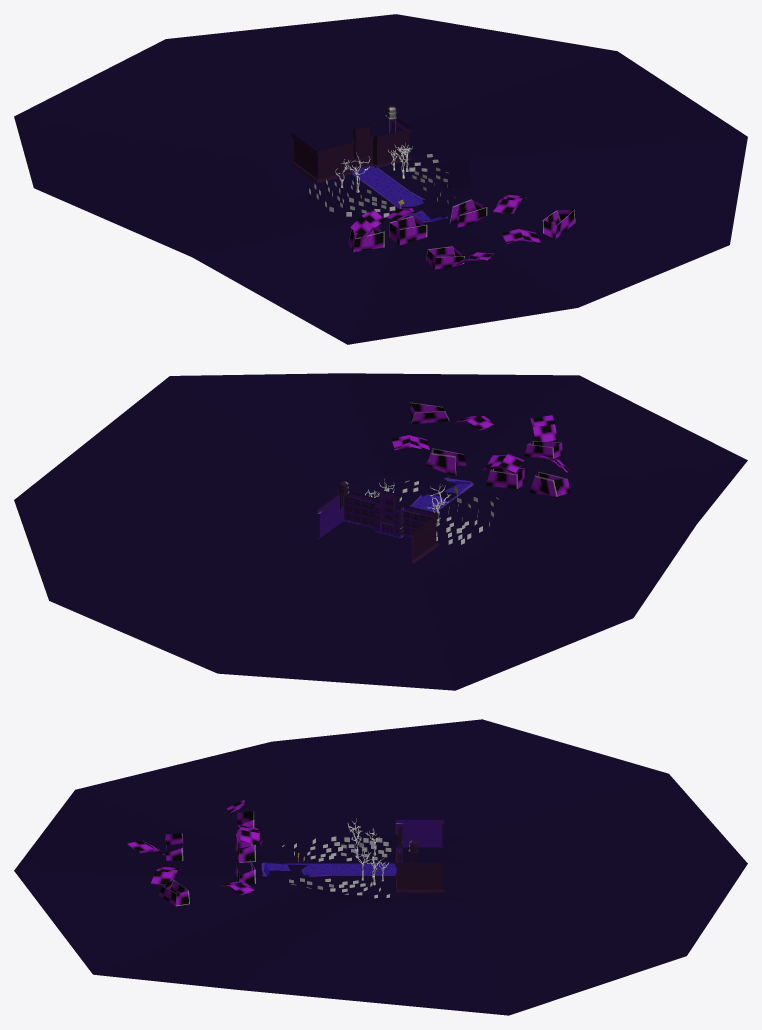
The model's file is WeebSchoolSpiritV1.fbx.
The picture shows the model from 3 angles, top to bottom: view 1: azimuth 30°, elevation 25°; view 2: azimuth 150°, elevation 25°; view 3: azimuth 270°, elevation 25°; orthographic projection. The views are drawn at different scales.
Parts seen in each view (by area): view 1: Ground, Houses, School, WalkWay, Grass.069, Tree1; view 2: Ground, Houses, School, WalkWay, Grass.069; view 3: Ground, Houses, School, WalkWay, Grass.069, Tree1.
Boxes of the visible parts, left/top/right/bottom form: Ground: left=14, top=14, right=747, bottom=344; Houses: left=348, top=194, right=575, bottom=269; School: left=291, top=110, right=411, bottom=183; WalkWay: left=351, top=166, right=447, bottom=222; Grass.069: left=309, top=154, right=455, bottom=217; Tree1: left=335, top=142, right=412, bottom=192; Ground: left=14, top=373, right=747, bottom=690; Houses: left=391, top=402, right=570, bottom=496; School: left=316, top=490, right=439, bottom=563; WalkWay: left=375, top=477, right=473, bottom=537; Grass.069: left=374, top=480, right=498, bottom=544; Ground: left=14, top=719, right=747, bottom=1015; Houses: left=127, top=800, right=262, bottom=906; School: left=394, top=818, right=444, bottom=892; WalkWay: left=261, top=862, right=396, bottom=876; Grass.069: left=282, top=836, right=391, bottom=898; Tree1: left=347, top=818, right=388, bottom=885.
Bounding box in the file's own units: 23190 × 2120 × 25859.
